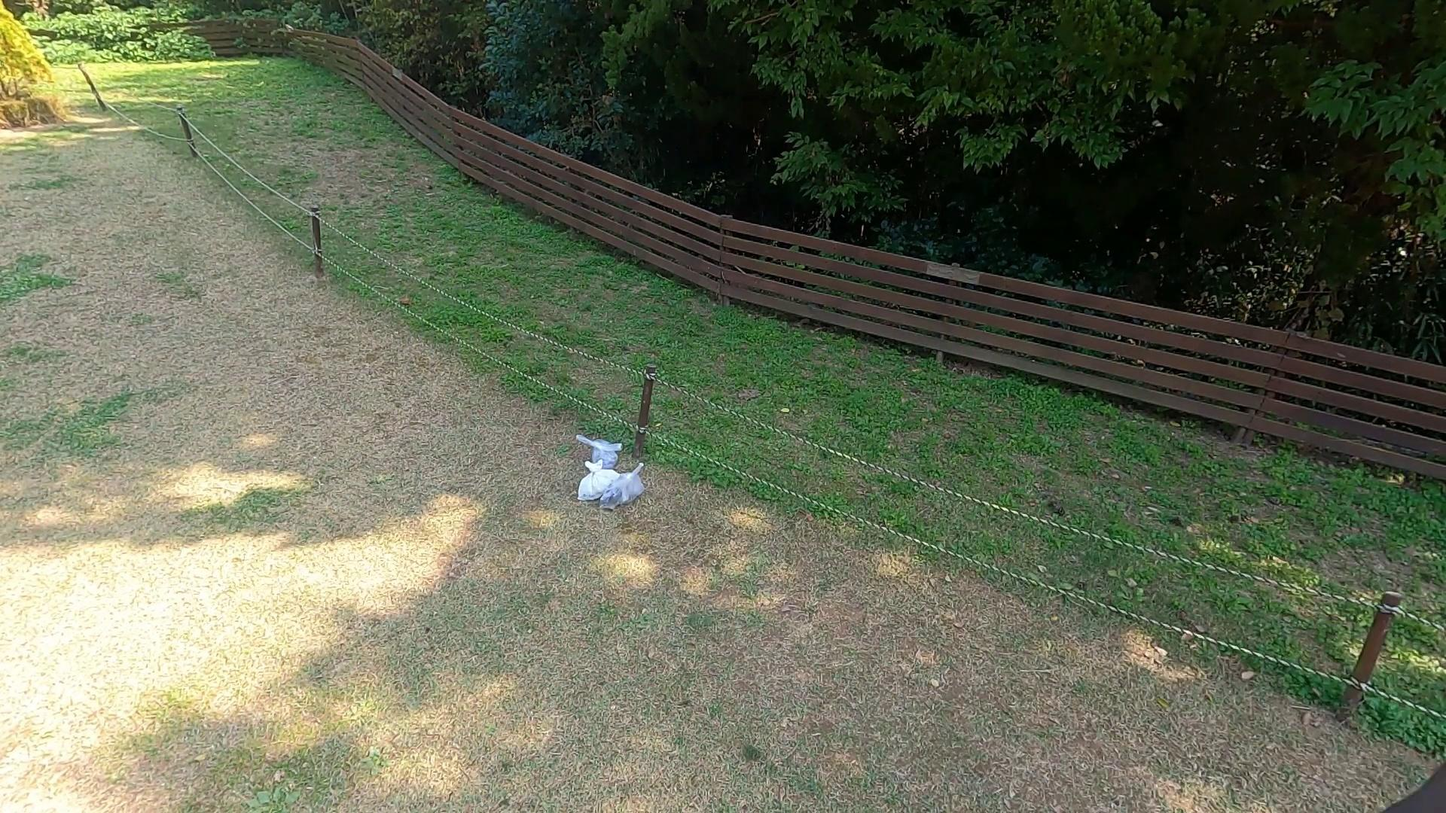trash: (577, 459, 623, 506), (576, 433, 621, 471), (614, 464, 644, 501), (602, 477, 631, 510)
